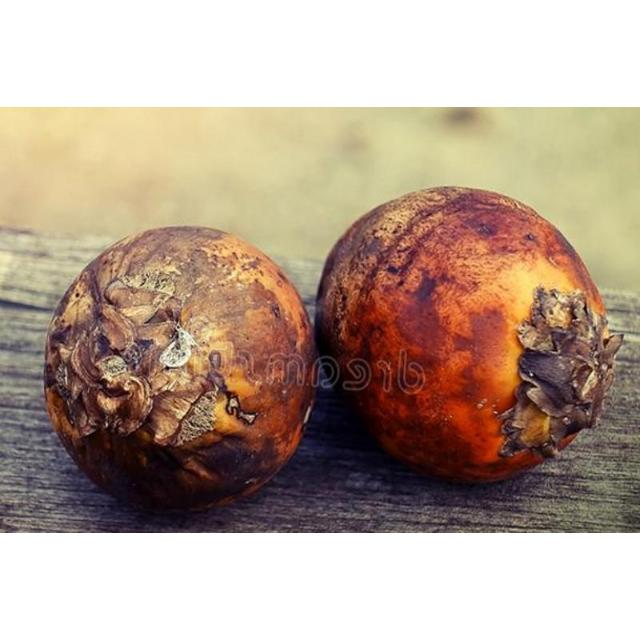damaged: (314, 186, 623, 486), (42, 228, 318, 513)
